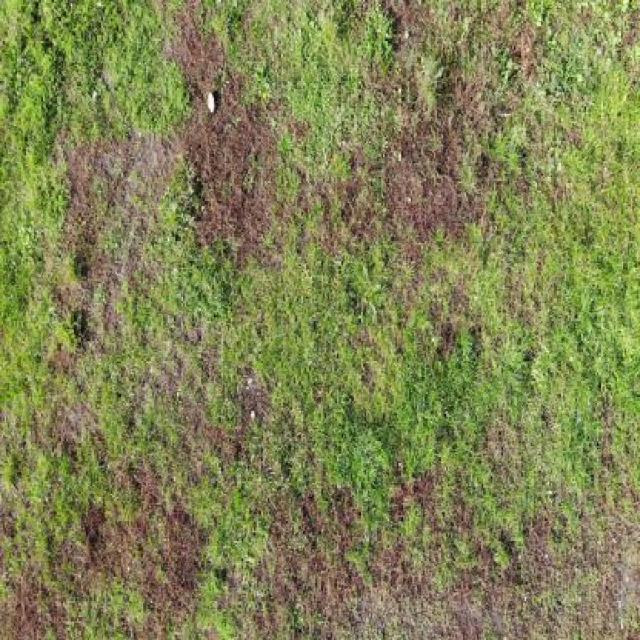Garbage: (207, 92, 215, 116)
